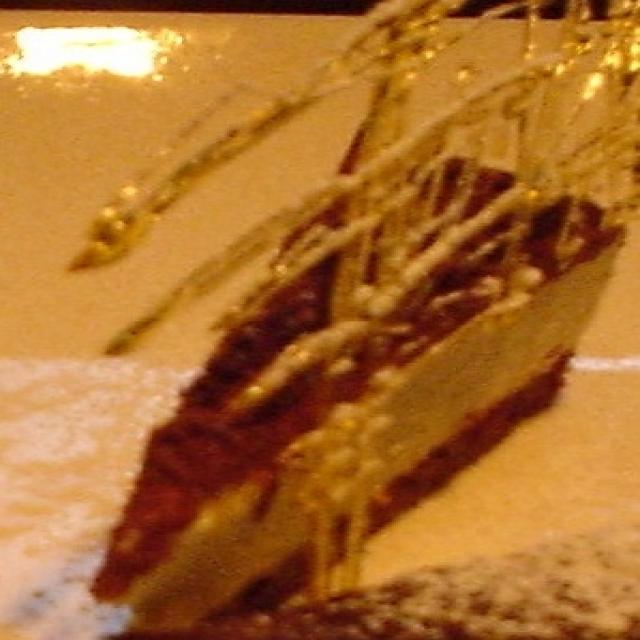Rare cheese cake: (2, 9, 640, 640)
